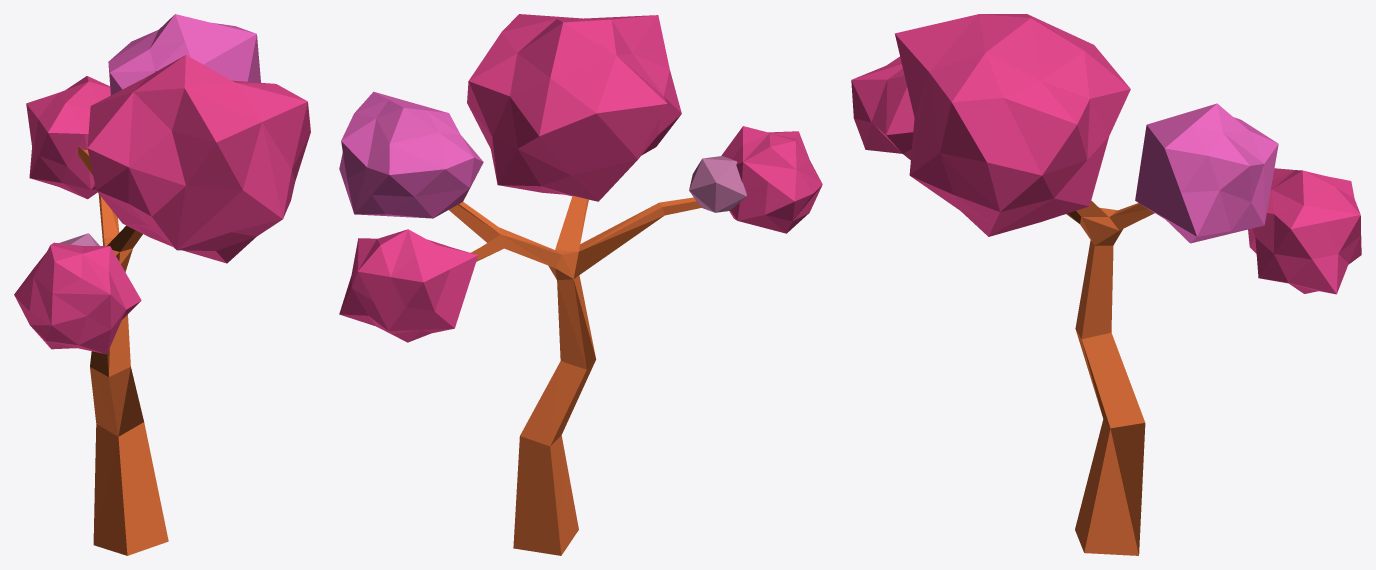
Rendered from tree-lv1.glb.
3 renders of one model, left to right at view 1: azimuth 30°, elevation 25°; view 2: azimuth 150°, elevation 25°; view 3: azimuth 270°, elevation 25°, orthographic. The views are drawn at different scales.
Visible parts, largest first — view 1: Hojas.023, Tronco.002, Hojas.026, Hojas.025, Hojas.024; view 2: Hojas.023, Tronco.002, Hojas.025, Hojas.024, Hojas.026, Hojas.027; view 3: Hojas.023, Tronco.002, Hojas.025, Hojas.024, Hojas.026.
Part boxes in pixels (x1,y1,x2,y2): Hojas.023: (87,55,310,263); Tronco.002: (78,146,168,555); Hojas.026: (14,242,141,354); Hojas.025: (108,14,260,95); Hojas.024: (26,76,110,199); Hojas.023: (467,14,681,201); Tronco.002: (449,196,701,555); Hojas.025: (339,91,483,218); Hojas.024: (339,229,478,342); Hojas.026: (721,126,822,233); Hojas.027: (689,156,746,212); Hojas.023: (894,14,1130,236); Tronco.002: (1066,200,1154,555); Hojas.025: (1135,103,1278,243); Hojas.024: (1248,168,1361,294); Hojas.026: (851,56,914,160).
Bounding box in the file's own units: 0.9252 × 1.25 × 1.07.
